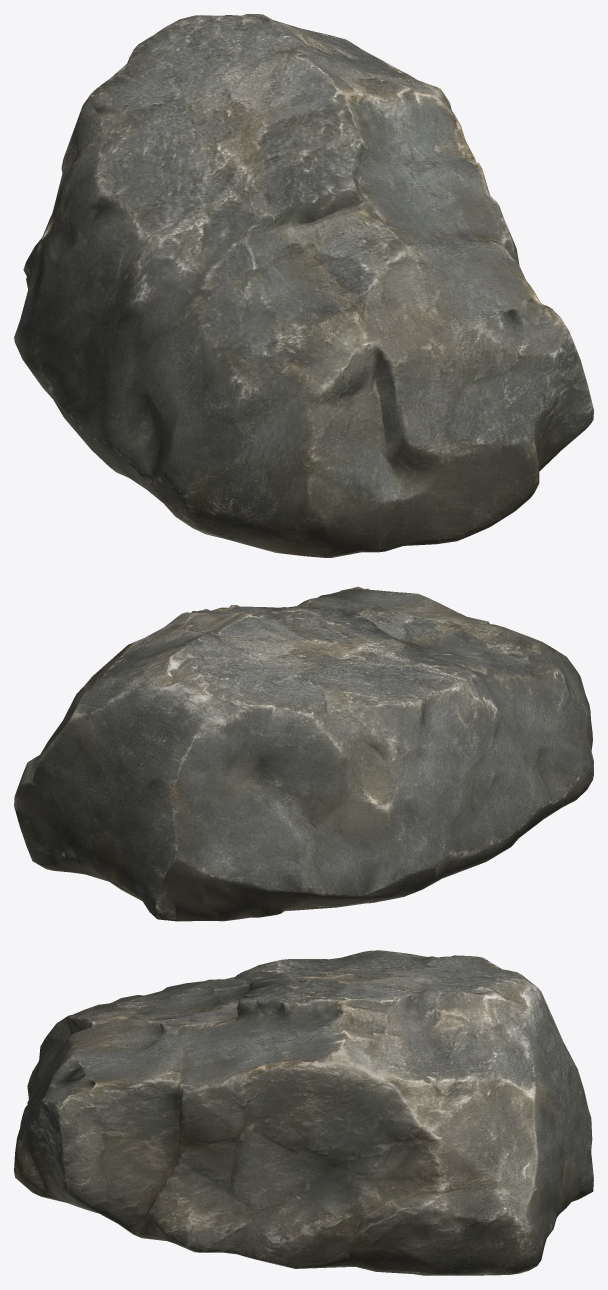
The model's file is rock_1.glb.
3 views of the same model, one above another, from view 1: azimuth 30°, elevation 25°; view 2: azimuth 150°, elevation 25°; view 3: azimuth 270°, elevation 25° (orthographic). The views are drawn at different scales.
Size of the model in its own units: 1.48 by 0.8178 by 1.91.
1 material, 1 textured.
